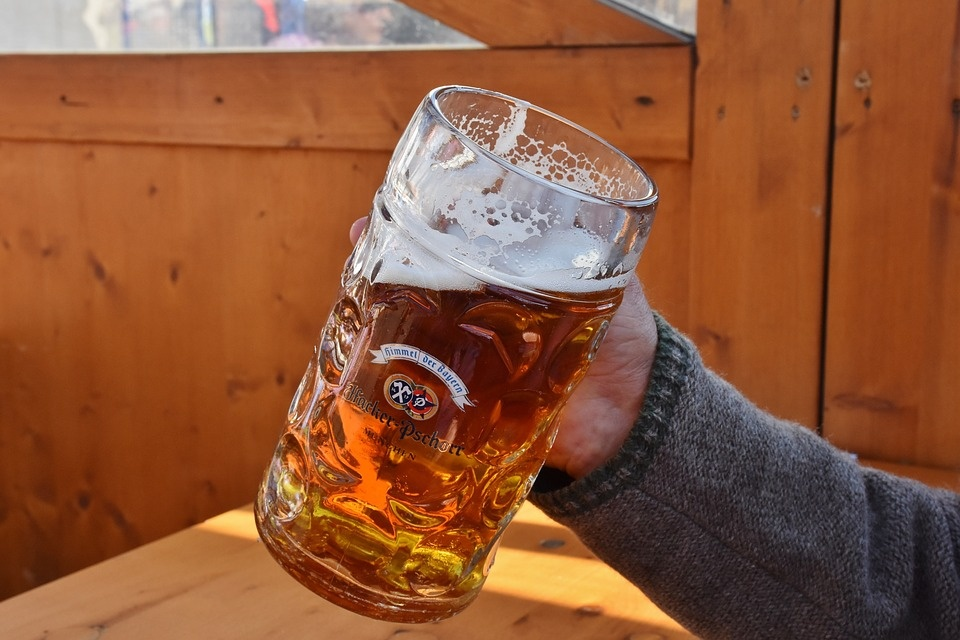glassBeer: (292, 76, 653, 618)
